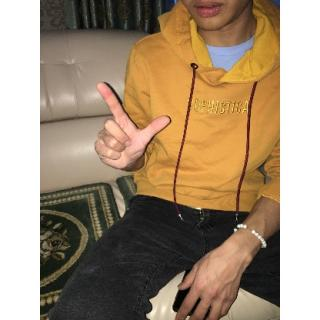LAAM: (92, 80, 178, 171)
